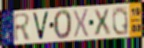O: (53, 9, 73, 41)
Q: (111, 6, 129, 37)
R: (13, 12, 32, 43)
V: (31, 11, 50, 42)
X: (92, 8, 112, 37), (73, 8, 90, 40)
